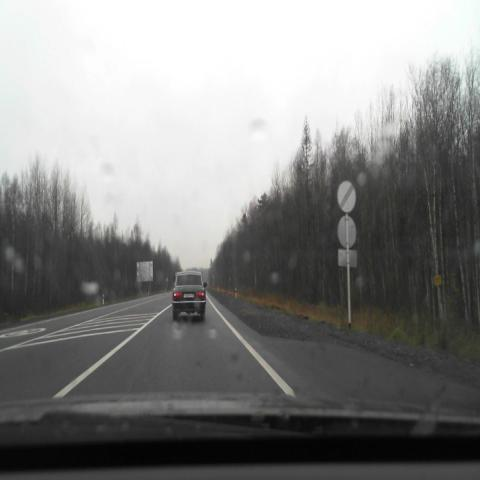3_31: (337, 180, 356, 213)
